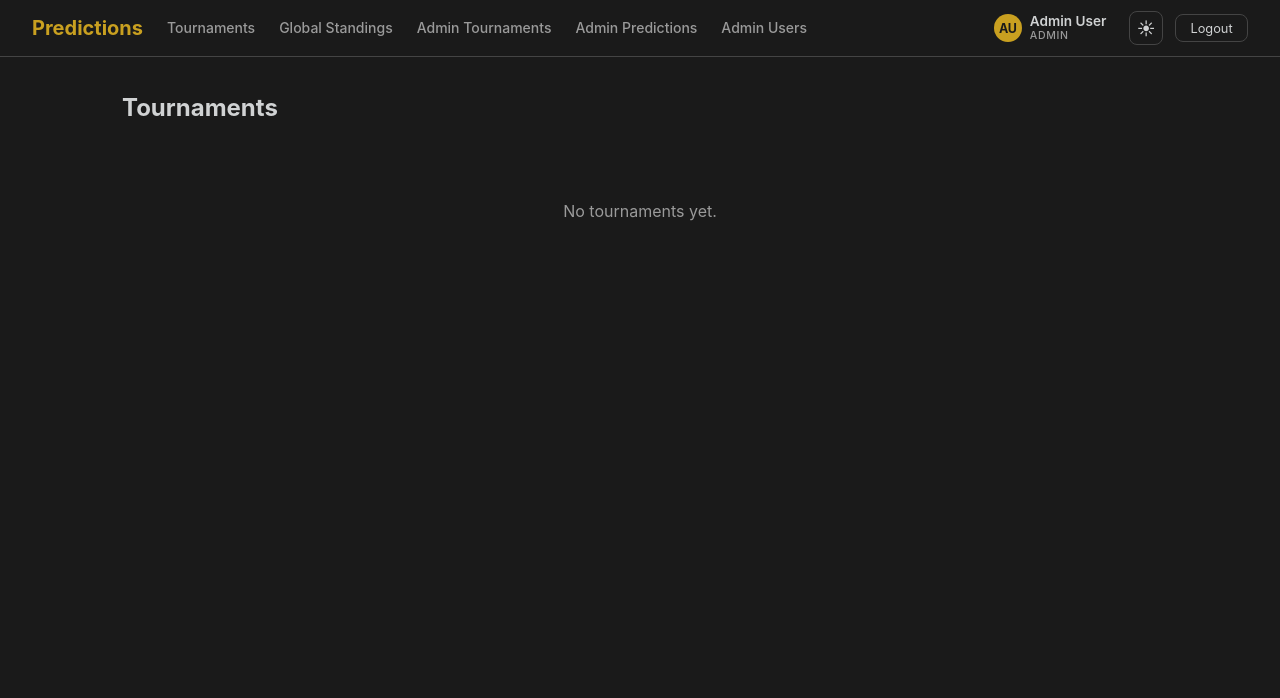
Account drawer › shows API error for incorrect current password
Click the button "AU Admin User Admin": (1052, 28) [987,9,1117,47]
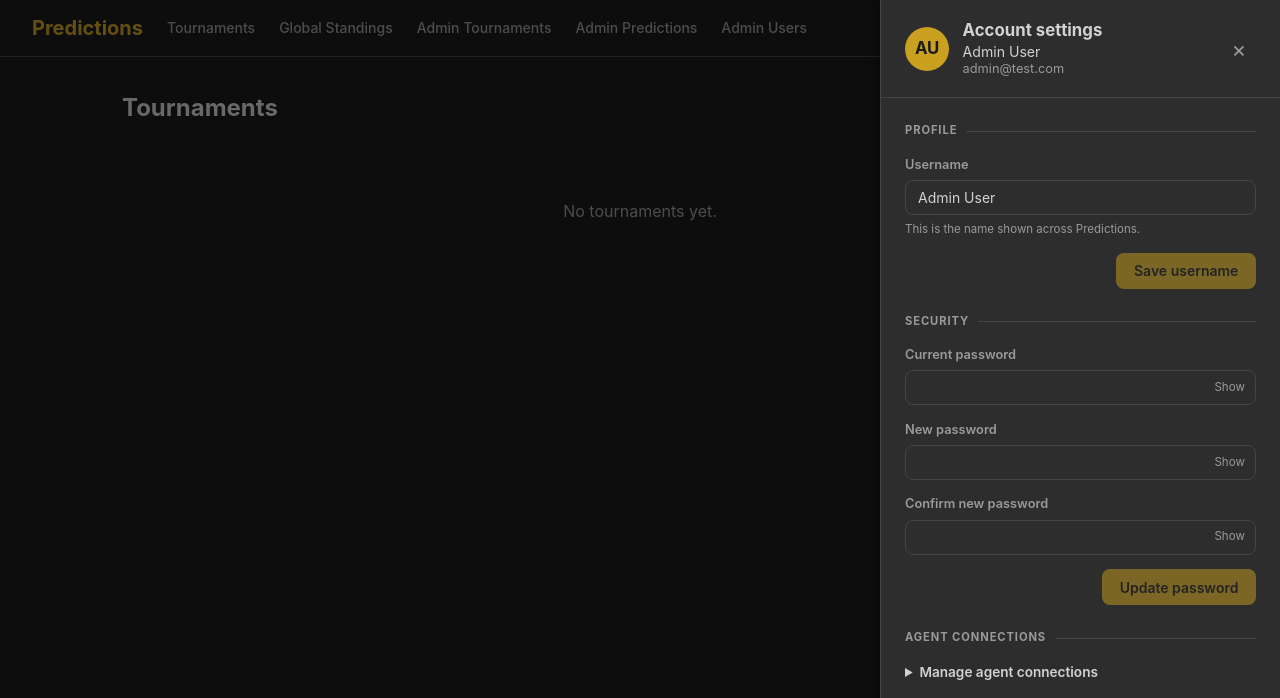
In the password field labelled "Current password": (1081, 388) [905,370,1256,405], type "Wrong123"
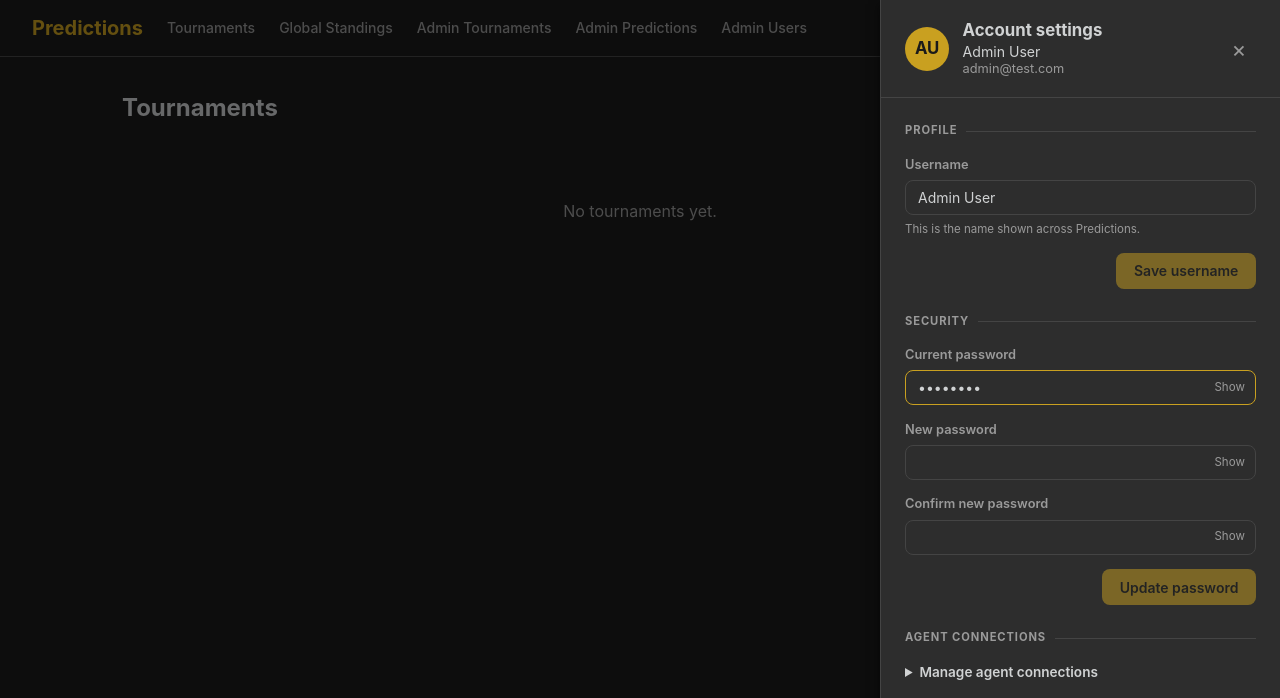
In the password field labelled "New password": (1081, 463) [905,445,1256,480], type "Better123"
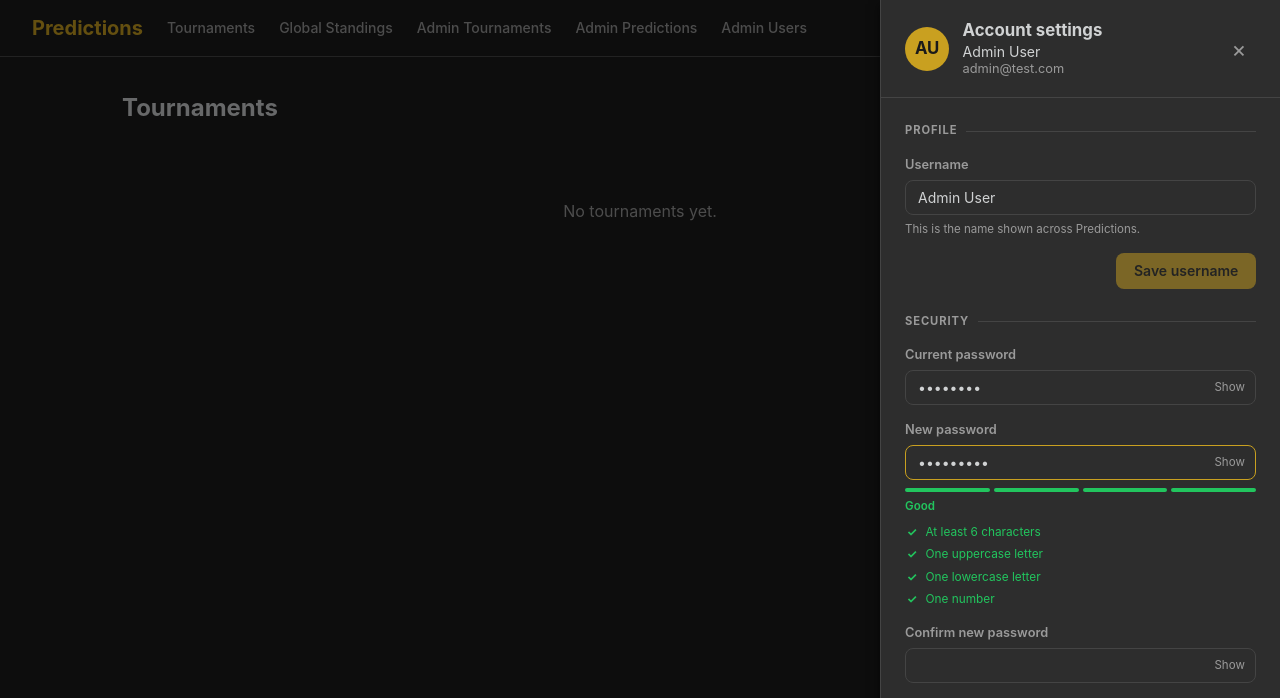
In the password field labelled "Confirm new password": (1081, 666) [905,648,1256,683], type "Better123"
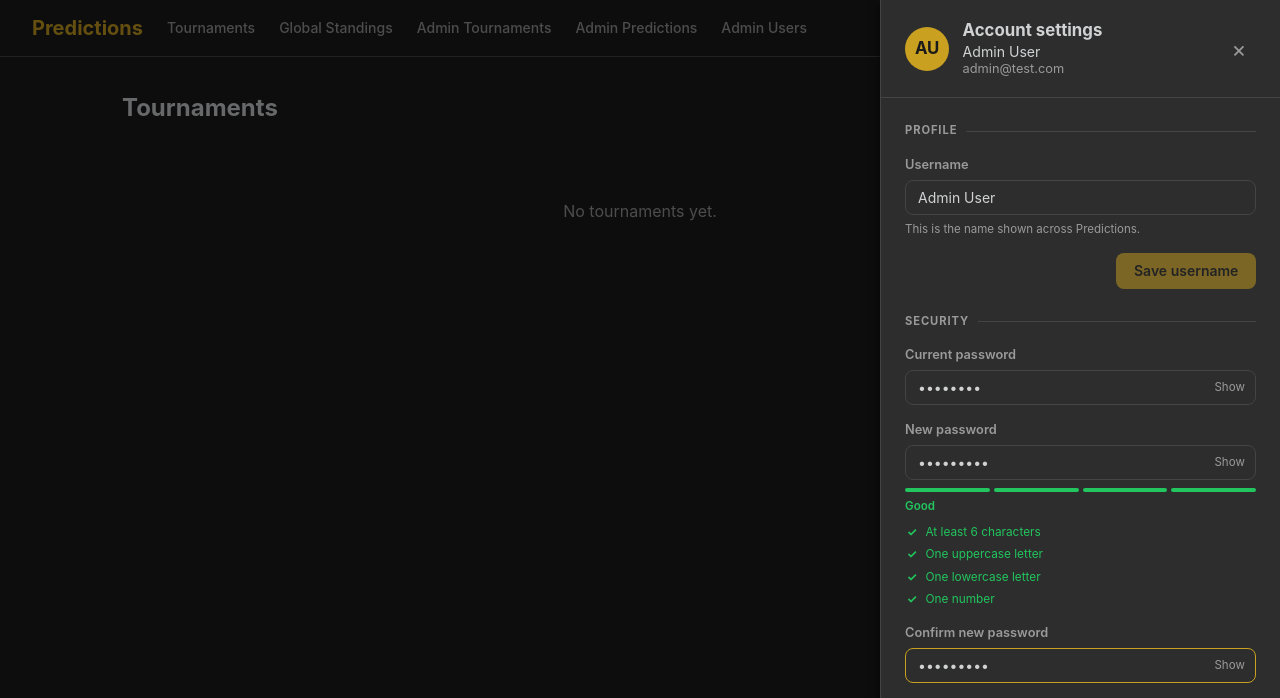
Scroll
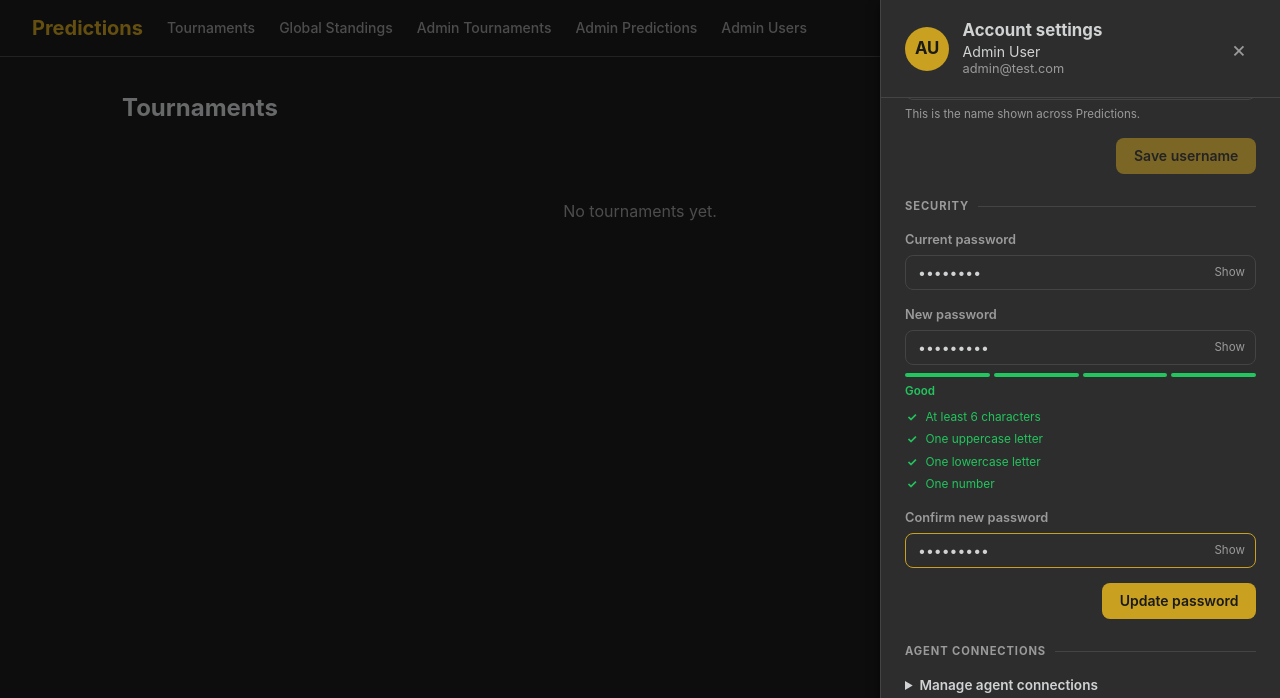
Click the button "Update password": (1179, 601) [1102,583,1256,619]
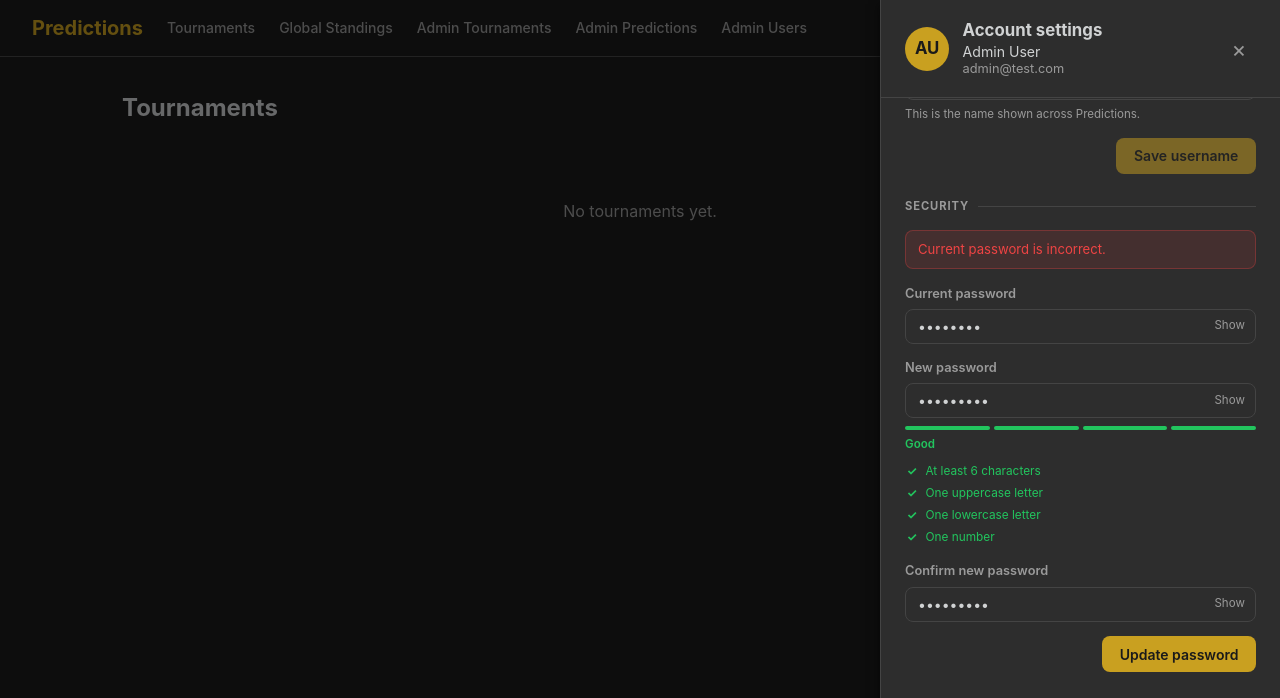
Result: the text "Current password is incorrect." is shown at [905,230,1256,269]
